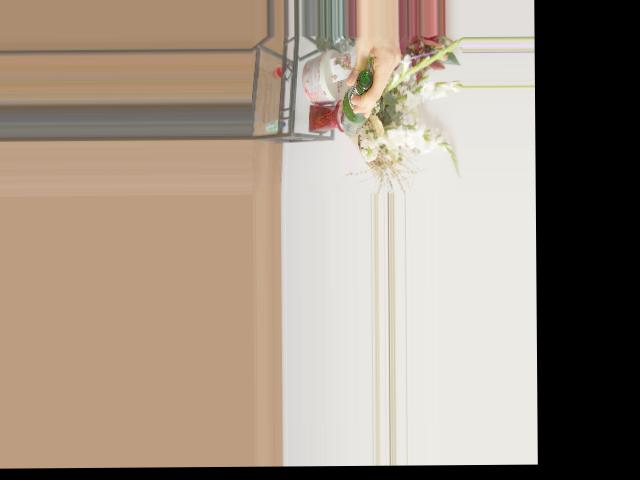beer: (340, 69, 372, 134)
